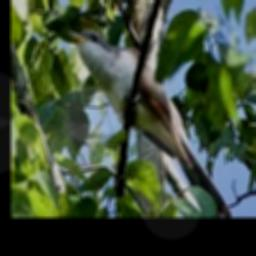Cuckoo: (68, 29, 232, 218)
